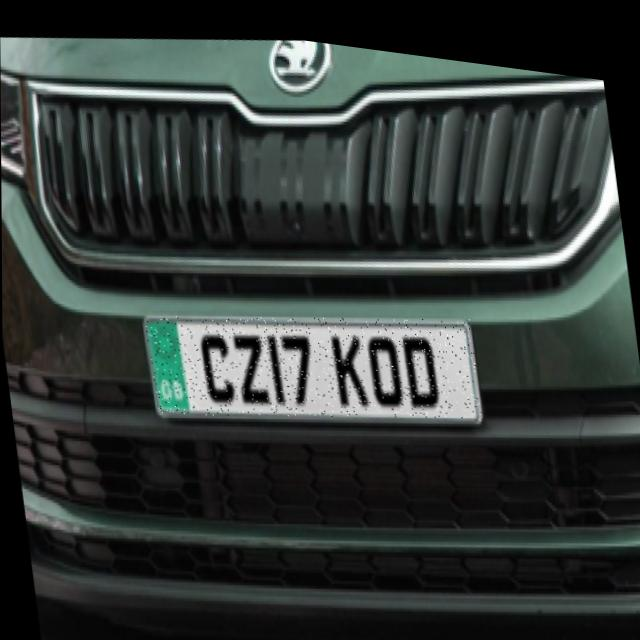license_plate: (143, 271, 482, 444)
